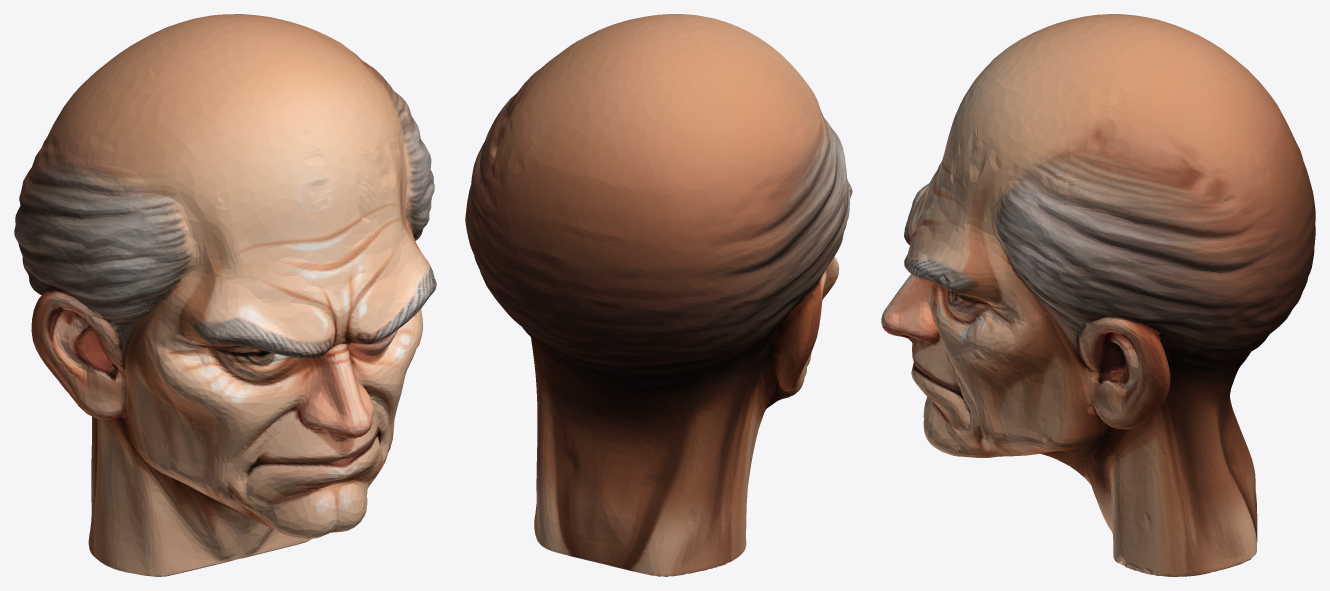
Rendered from side_munashii_repaired_atlas.glb.
The picture shows the model from 3 angles, left to right: view 1: azimuth 30°, elevation 25°; view 2: azimuth 150°, elevation 25°; view 3: azimuth 270°, elevation 25°; orthographic projection. The views are drawn at different scales.
Parts seen in each view (by area): view 1: temp_mesh.ply; view 2: temp_mesh.ply; view 3: temp_mesh.ply.
Part boxes in pixels (left/top/right/bottom): temp_mesh.ply: left=14, top=14, right=436, bottom=576; temp_mesh.ply: left=465, top=14, right=852, bottom=576; temp_mesh.ply: left=881, top=14, right=1315, bottom=576.
Size of the model in its own units: 0.8828 by 1.22 by 0.9604.
1 material, 1 textured.
